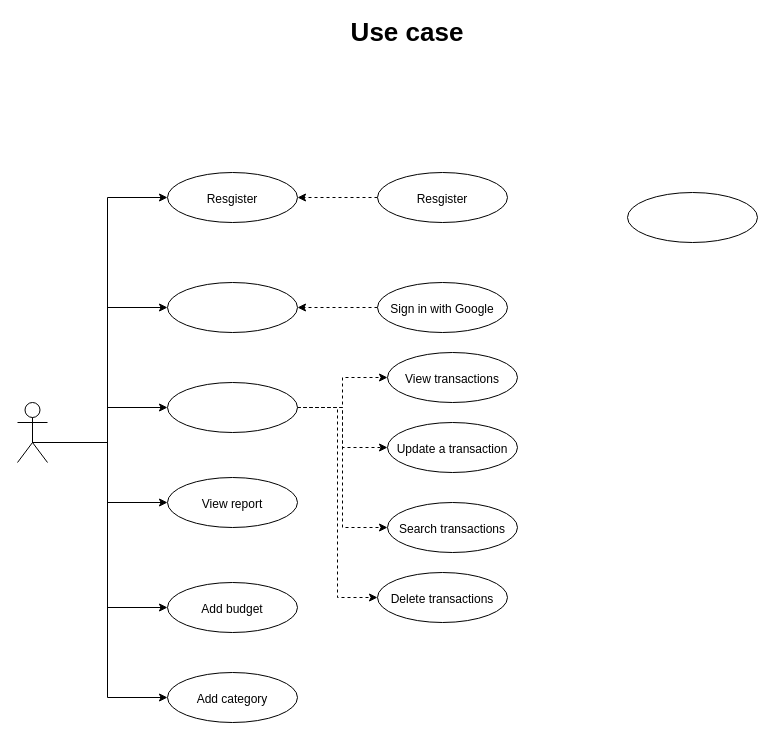
The diagram is 775 pixels wide and 740 high, and some of its shapes have lost their labels. The centre of each missing label's shape, as x and y in pixels:
Actor: the point at 32,432
Add transactions: the point at 232,407
Resgister with Google: the point at 692,217
Sign in: the point at 232,307
